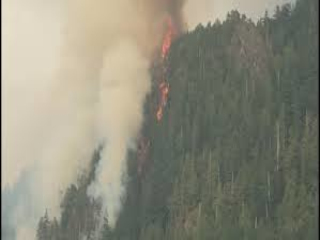fire: (153, 17, 179, 65), (155, 82, 174, 118)
smoke: (22, 39, 96, 233), (94, 35, 152, 228), (156, 2, 186, 34)
